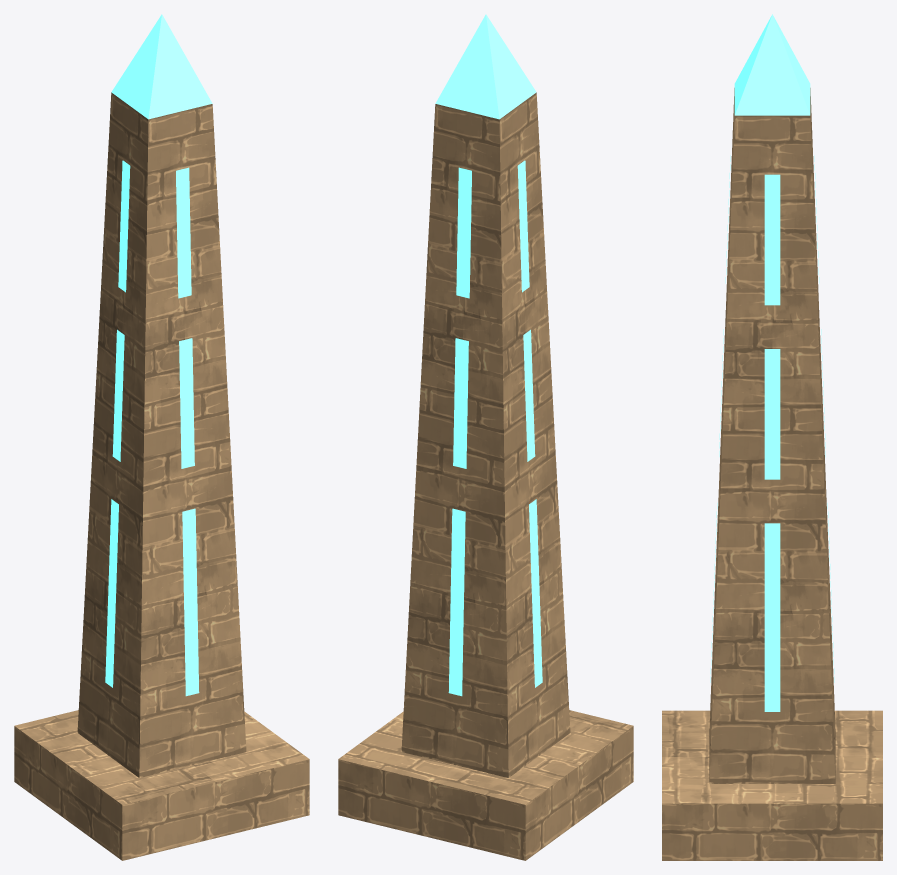
File: obelisk_magitech.gltf
3 views of the same model, side by side, from view 1: azimuth 30°, elevation 25°; view 2: azimuth 150°, elevation 25°; view 3: azimuth 270°, elevation 25° (orthographic). The views are drawn at different scales.
Parts seen in each view (by area): view 1: obelisk_magitech; view 2: obelisk_magitech; view 3: obelisk_magitech.
Boxes of the visible parts, x1,y1,x2,y2 form: obelisk_magitech: [14, 14, 309, 860]; obelisk_magitech: [338, 14, 633, 860]; obelisk_magitech: [662, 14, 882, 860].
Bounding box in the file's own units: 1.4 × 5.6 × 1.4.
2 materials, 1 textured.
